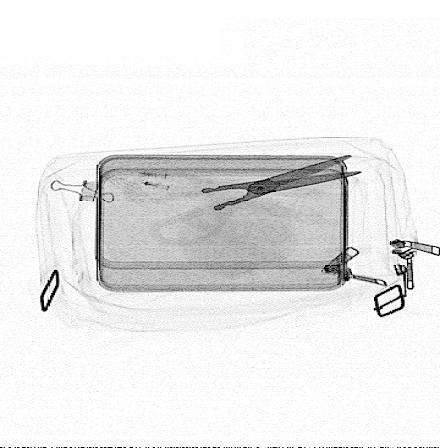Scissors: (127, 153, 366, 247)
